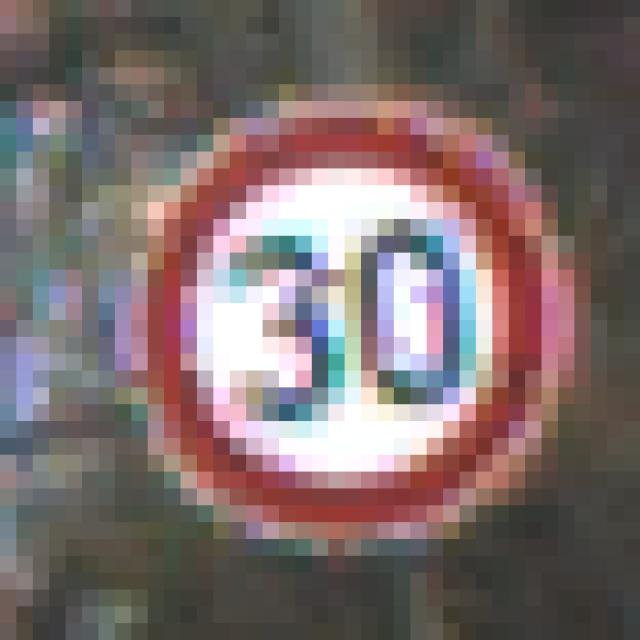Speed Limit -30-: (90, 76, 534, 530)
